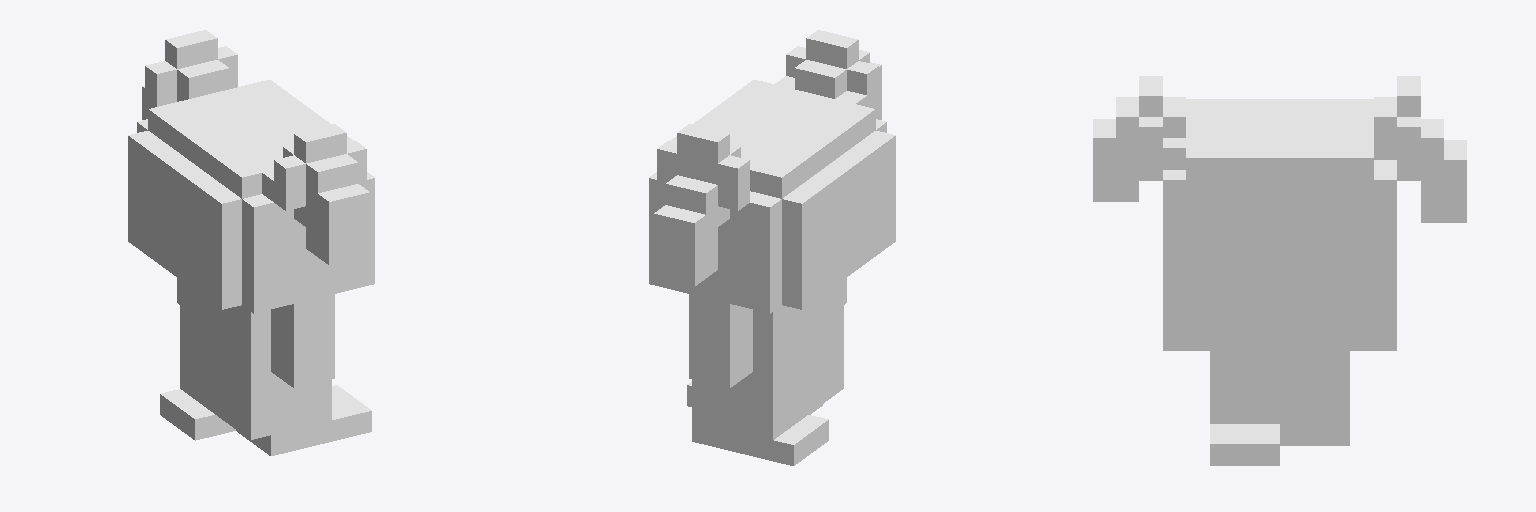
The model's file is Girl1.obj.
3 renders of one model, left to right at view 1: azimuth 30°, elevation 25°; view 2: azimuth 150°, elevation 25°; view 3: azimuth 270°, elevation 25°, orthographic.
Size of the model in its own units: 8 by 16 by 16.